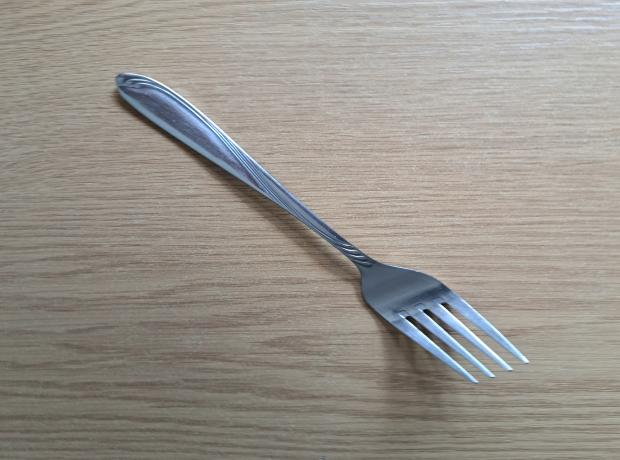metal: (112, 70, 534, 386)
